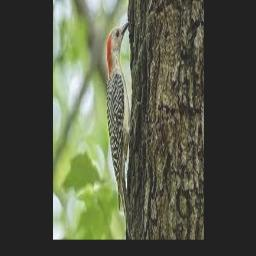Woodpecker: (107, 21, 142, 230)
